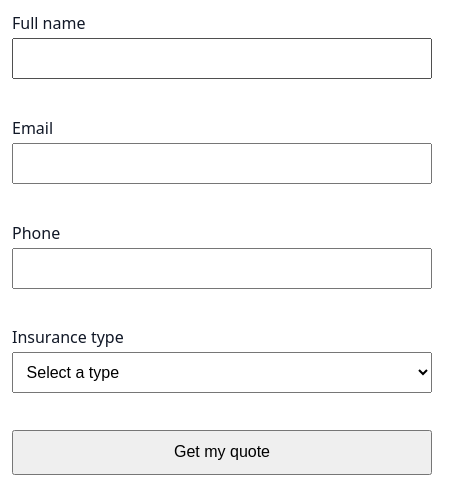
Test: QuoteForm › shows a live error for an invalid phone number
Type "123" into the field labelled "Phone" at x=222, y=268, box x1=12 y1=248 x2=432 y2=289
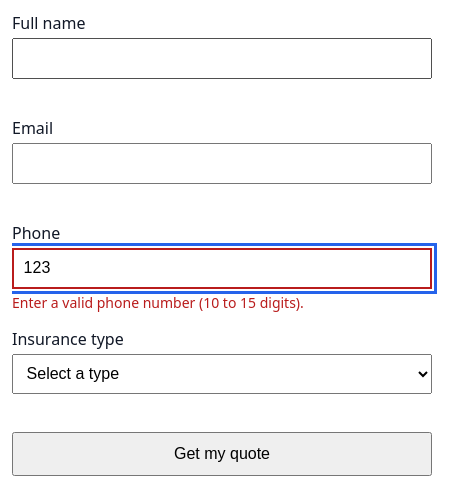
expect the text "Enter a valid phone number (10 to 15 digits)." is shown: met, box x1=12 y1=293 x2=304 y2=312
